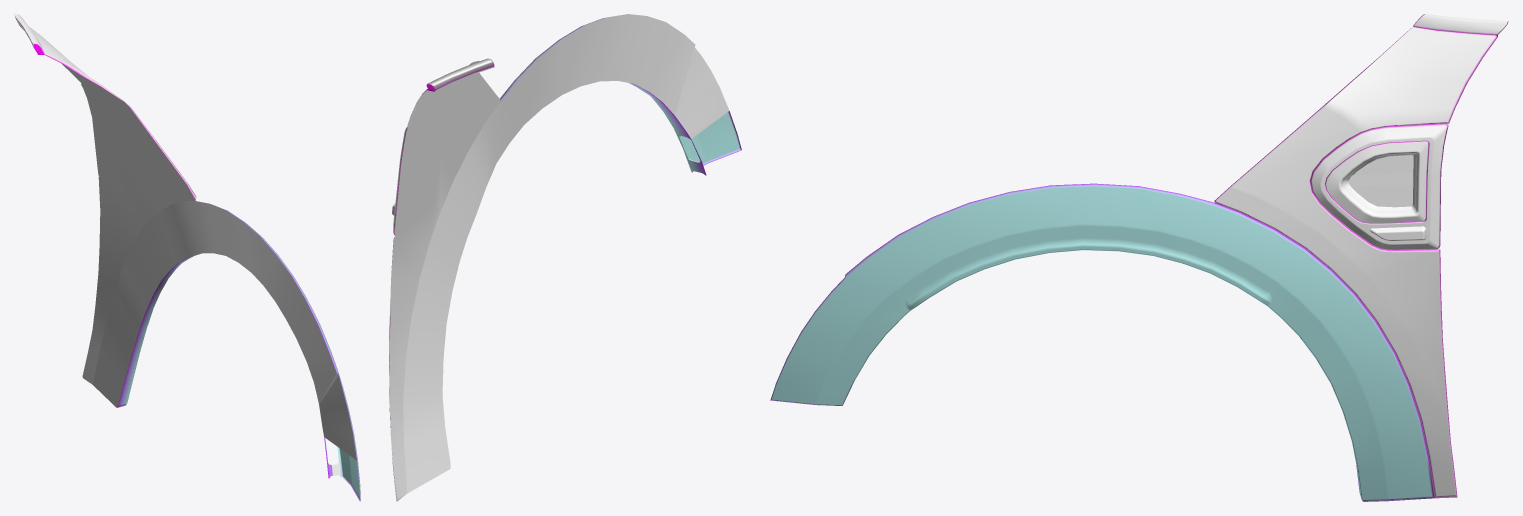
File: Car_Mini_CountrymanJCW_2017_FenderFL_SetA.fbx
3 views of the same model, side by side, from view 1: azimuth 30°, elevation 25°; view 2: azimuth 150°, elevation 25°; view 3: azimuth 270°, elevation 25° (orthographic). The views are drawn at different scales.
Visible parts, largest first — view 1: FenderFL 6; view 2: FenderFL 6; view 3: FenderFL 6.
Boxes of the visible parts, x1,y1,x2,y2 form: FenderFL 6: [14, 14, 360, 501]; FenderFL 6: [389, 14, 741, 501]; FenderFL 6: [770, 14, 1508, 501].
Size of the model in its own units: 0.1963 by 0.7508 by 1.12.
